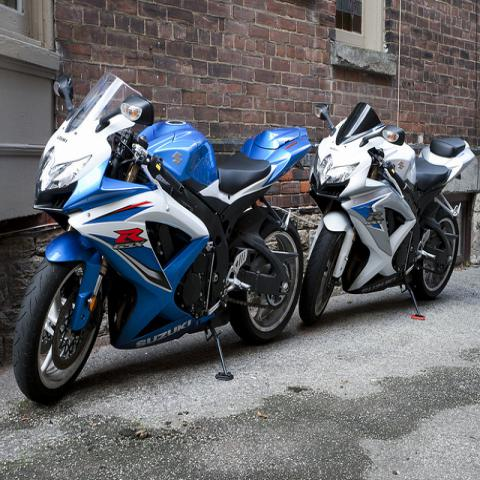motorcycle: (13, 71, 313, 405), (295, 98, 477, 329)
